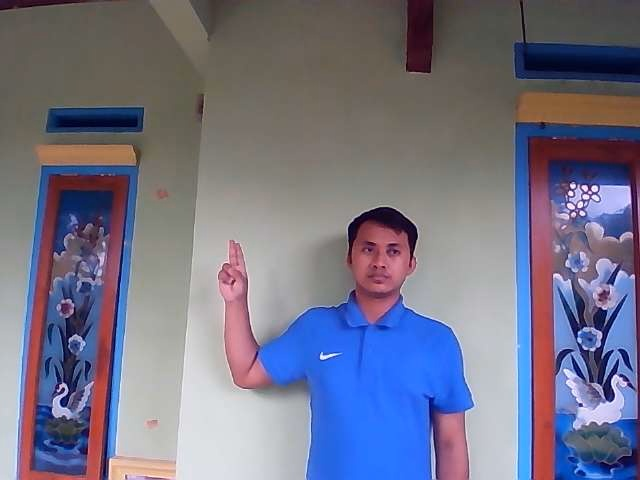U: (216, 239, 249, 302)
